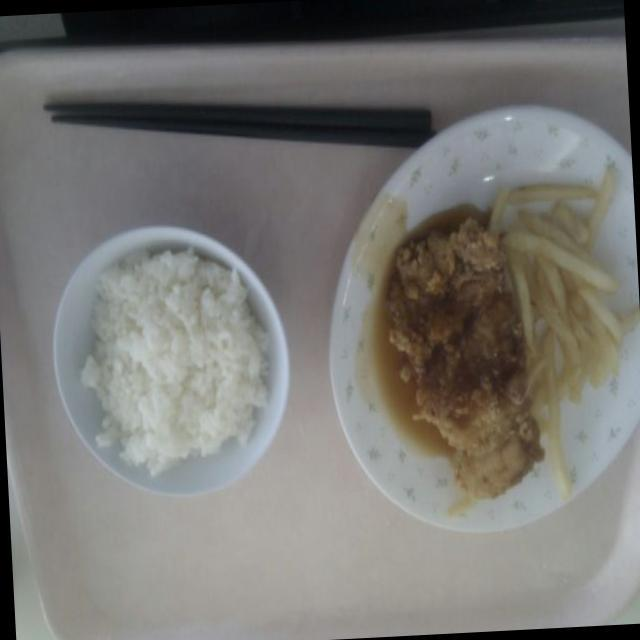Rice: (63, 270, 280, 475)
